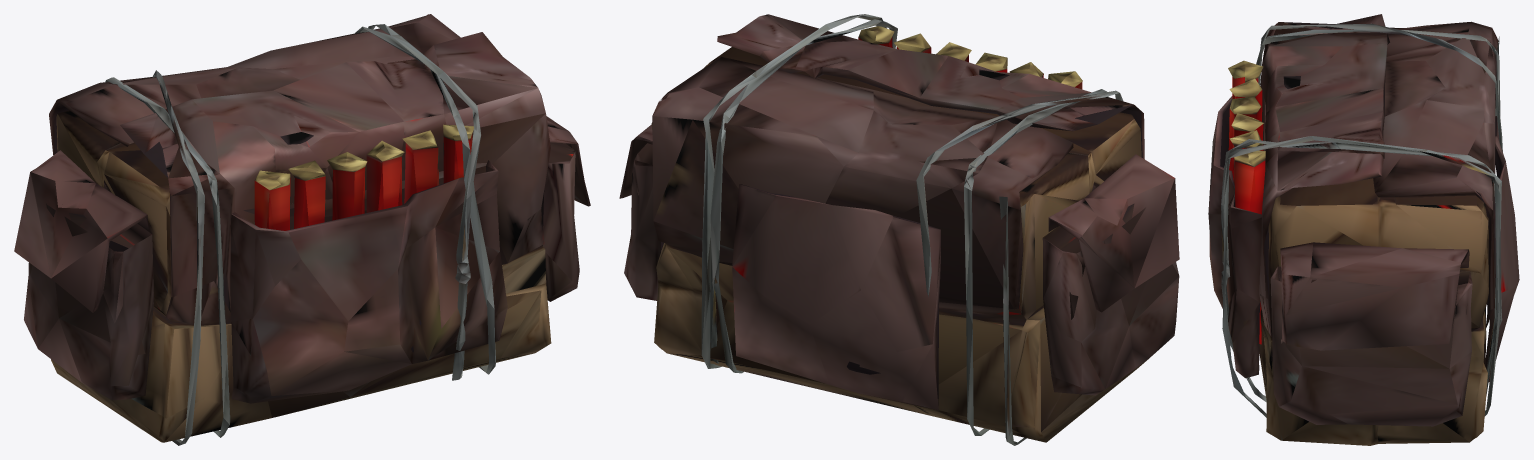
The model's file is ZR_Ammo_Shotgun.fbx.
3 renders of one model, left to right at view 1: azimuth 30°, elevation 25°; view 2: azimuth 150°, elevation 25°; view 3: azimuth 270°, elevation 25°, orthographic. The views are drawn at different scales.
Parts seen in each view (by area): view 1: ZR_Ammo_Shotgun; view 2: ZR_Ammo_Shotgun; view 3: ZR_Ammo_Shotgun.
Boxes of the visible parts, bbox=[...] form: ZR_Ammo_Shotgun: bbox=[14, 14, 590, 445]; ZR_Ammo_Shotgun: bbox=[619, 14, 1179, 445]; ZR_Ammo_Shotgun: bbox=[1208, 14, 1519, 445].
Size of the model in its own units: 0.2201 by 0.128 by 0.1289.
1 material, 1 textured.
